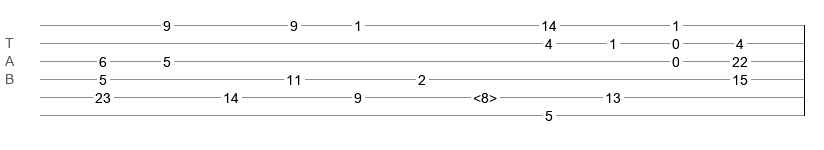0: (672, 54, 680, 64), (672, 36, 680, 46)
1: (354, 18, 362, 28), (609, 36, 617, 46), (672, 18, 680, 28)
11: (286, 72, 302, 82)
13: (605, 90, 621, 100)
14: (223, 90, 239, 100), (541, 18, 557, 28)
15: (732, 72, 748, 82)
2: (418, 72, 426, 82)
22: (732, 54, 748, 64)
23: (95, 90, 111, 100)
4: (545, 36, 553, 46), (736, 36, 744, 46)
5: (99, 72, 107, 82), (163, 54, 171, 64), (545, 108, 553, 118)
6: (99, 54, 107, 64)
9: (163, 18, 171, 28), (290, 18, 298, 28), (354, 90, 362, 100)
harmonic: (473, 90, 497, 100)
